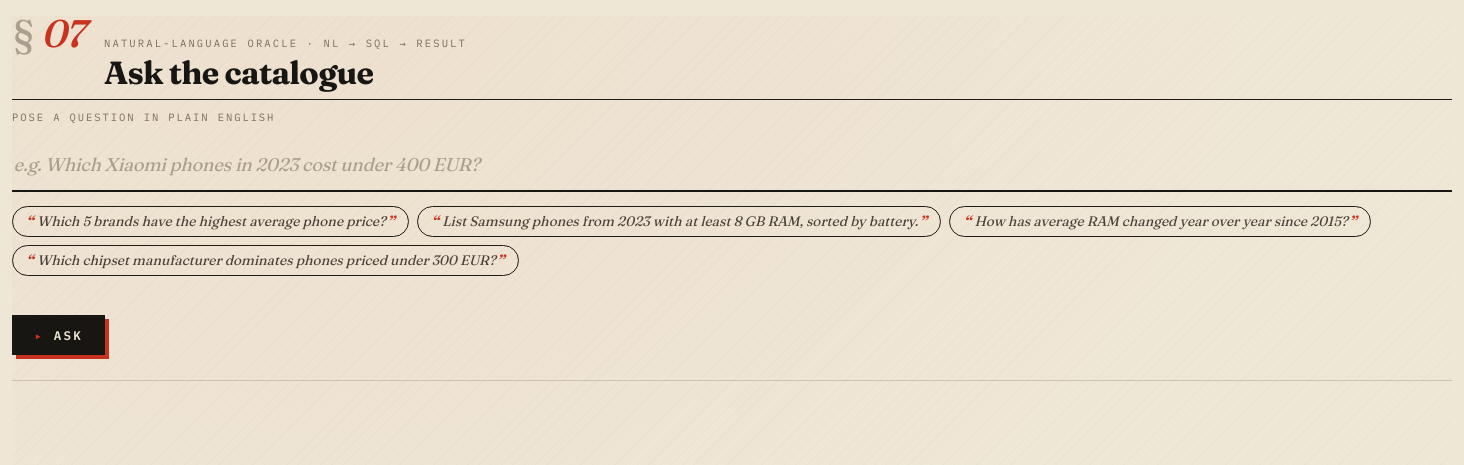
AskView › renders a plain string error when the backend returns a simple detail
The image size is (1464, 465).
Type "oh no" into the field with placeholder "e.g. Which Xiaomi phones in 2023 cost under 400 EUR?" at (732, 166), box 12,140 -> 1452,192
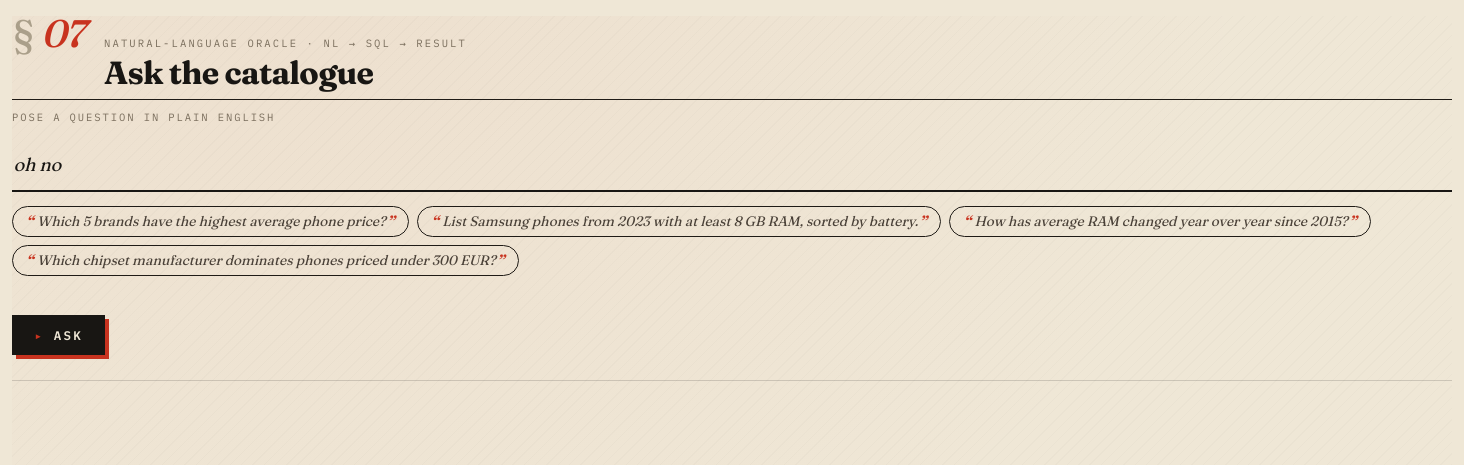
Click the button "Ask" at (59, 335), box 12,315 -> 105,355
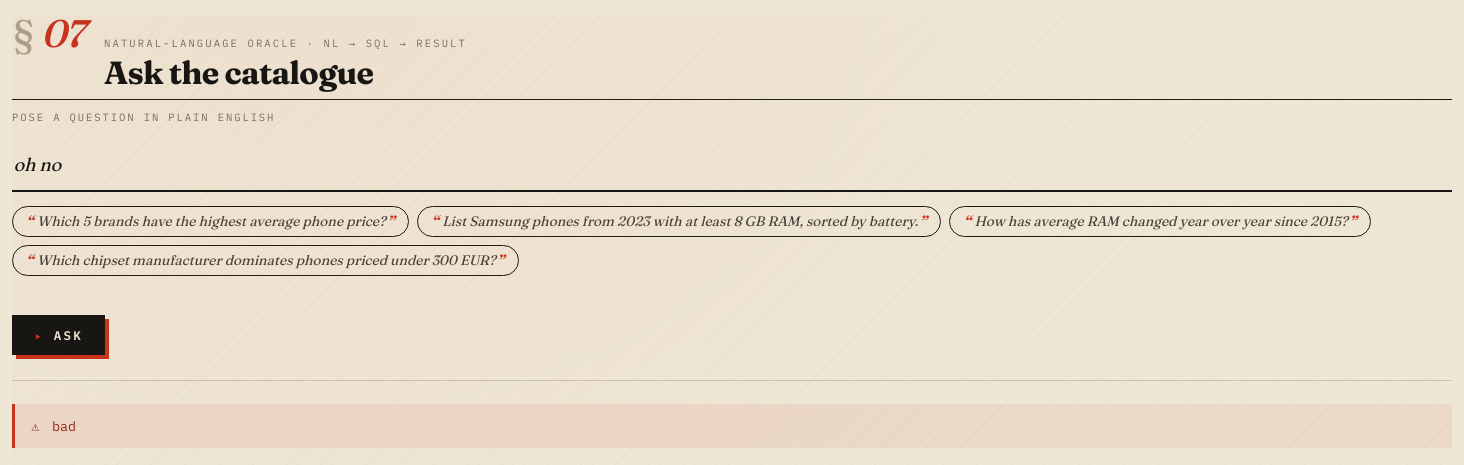
Result: the text "bad" is shown at 12,404 -> 1452,448
